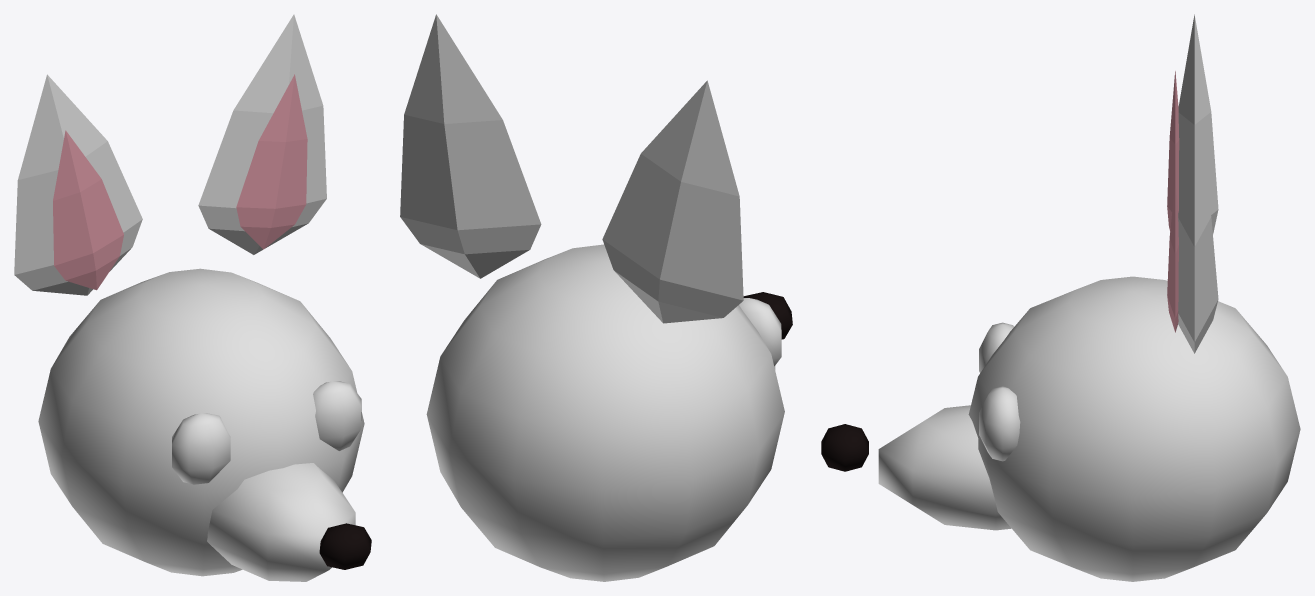
Rendered from ville_cos_fam_renard_tete.glb.
3 views of the same model, side by side, from view 1: azimuth 30°, elevation 25°; view 2: azimuth 150°, elevation 25°; view 3: azimuth 270°, elevation 25° (orthographic). The views are drawn at different scales.
Parts seen in each view (by area): view 1: cos_fam_renard_tete; view 2: cos_fam_renard_tete; view 3: cos_fam_renard_tete.
Boxes of the visible parts, x1,y1,x2,y2 form: cos_fam_renard_tete: [14, 14, 371, 581]; cos_fam_renard_tete: [400, 14, 792, 581]; cos_fam_renard_tete: [821, 14, 1300, 581].
Size of the model in its own units: 0.2631 by 0.3963 by 0.3497.
